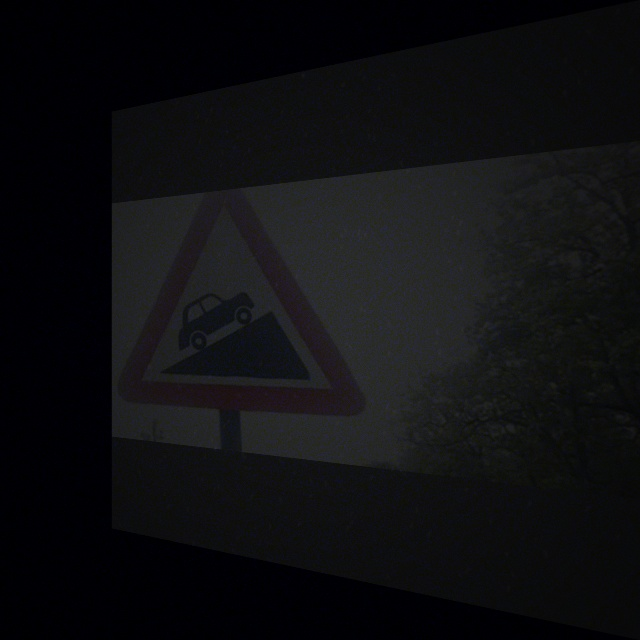Steep_Ascent: (137, 207, 345, 419)
